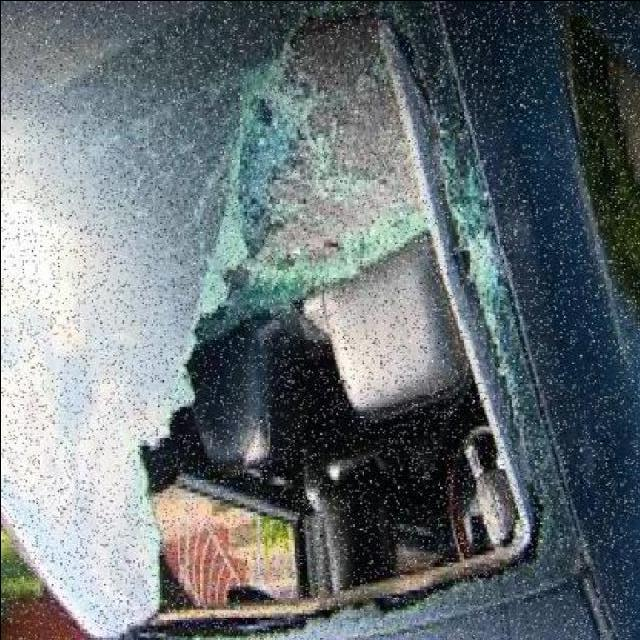Rear-windscreen-Damage: (14, 3, 557, 640)
